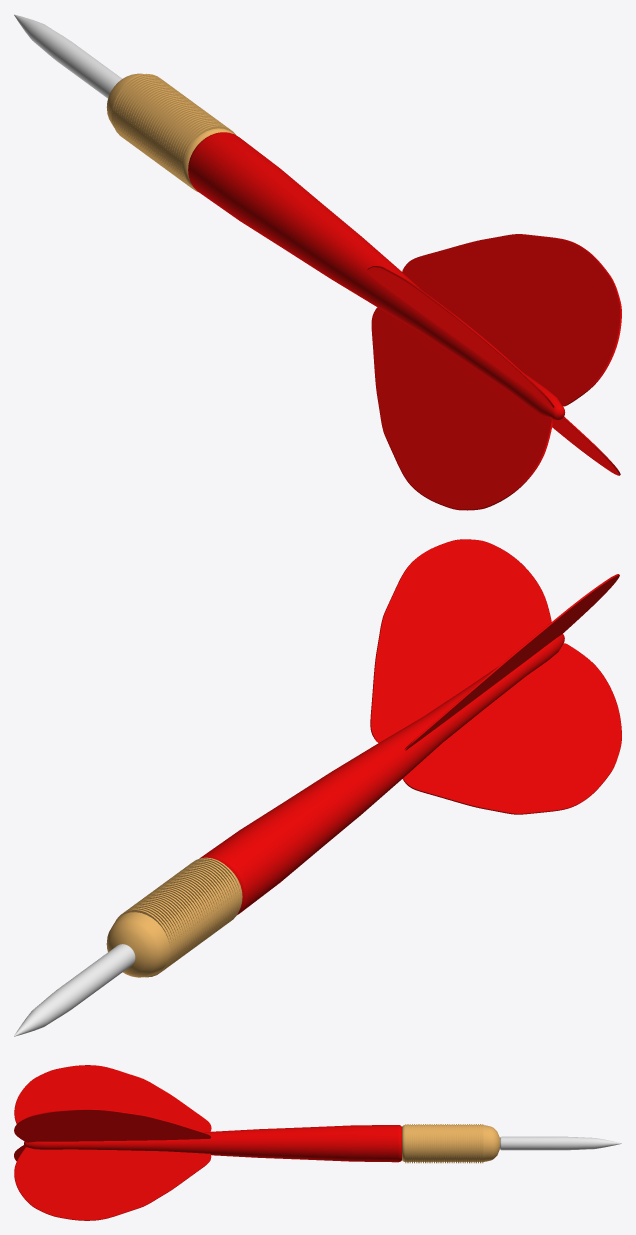
File: dart.fbx
The picture shows the model from 3 angles, top to bottom: view 1: azimuth 30°, elevation 25°; view 2: azimuth 150°, elevation 25°; view 3: azimuth 270°, elevation 25°; orthographic projection. The views are drawn at different scales.
Visible parts, largest first — view 1: Cylinder, Cube, Cube.002, Cube.001, Cube.003; view 2: Cylinder, Cube.002, Cube, Cube.001; view 3: Cylinder, Cube.003, Cube.001, Cube.
Part boxes in pixels (x1,y1,x2,y2): Cylinder: (14,14,565,420); Cube: (402,234,621,406); Cube.002: (371,307,552,510); Cube.001: (367,266,554,408); Cube.003: (552,416,620,475); Cylinder: (14,634,564,1036); Cube.002: (403,643,621,814); Cube: (370,539,551,742); Cube.001: (404,574,619,750); Cylinder: (24,1124,621,1163); Cube.003: (14,1147,211,1220); Cube.001: (14,1065,211,1132); Cube: (14,1109,210,1142).
Size of the model in its own units: 76 by 88.84 by 438.
